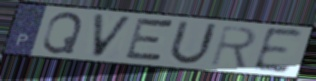E: (121, 15, 177, 66), (250, 26, 306, 75)
Q: (40, 10, 86, 55)
R: (208, 23, 258, 70)
U: (166, 19, 220, 67)
V: (91, 12, 135, 60)
